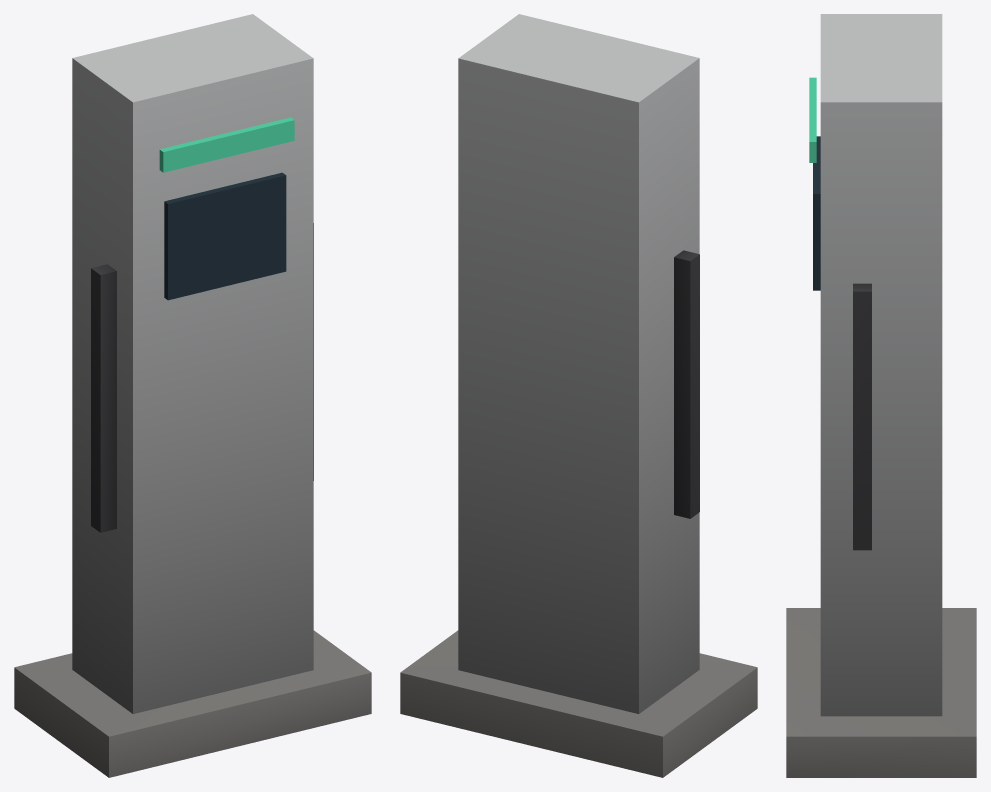
The model's file is ladesaeule.glb.
3 renders of one model, left to right at view 1: azimuth 30°, elevation 25°; view 2: azimuth 150°, elevation 25°; view 3: azimuth 270°, elevation 25°, orthographic.
Visible parts, largest first — view 1: lack, glas, licht; view 2: lack; view 3: lack, glas, licht.
Part boxes in pixels (bbox=[...]): lack: bbox=[14, 14, 371, 777]; glas: bbox=[164, 172, 286, 300]; licht: bbox=[159, 117, 294, 172]; lack: bbox=[400, 14, 757, 777]; lack: bbox=[786, 14, 976, 777]; glas: bbox=[813, 136, 820, 290]; licht: bbox=[809, 77, 816, 162].
Bounding box in the file's own units: 0.8 × 1.9 × 0.5001.
